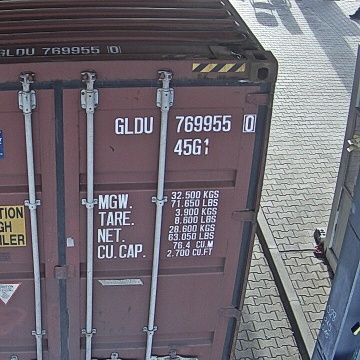serial_id: (115, 115, 254, 133)
